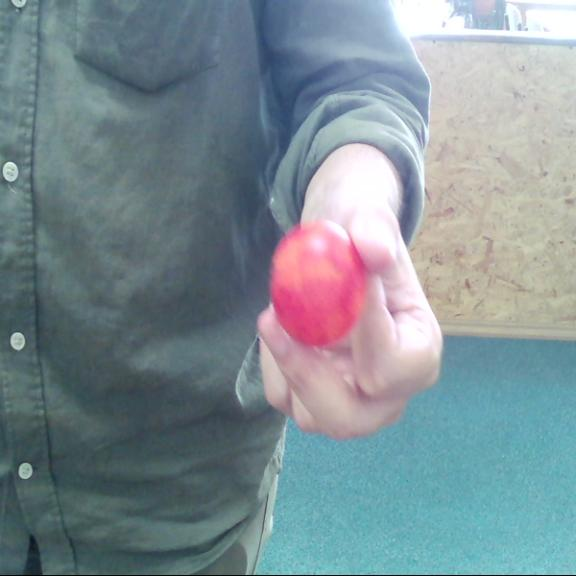ball: (267, 214, 363, 349)
